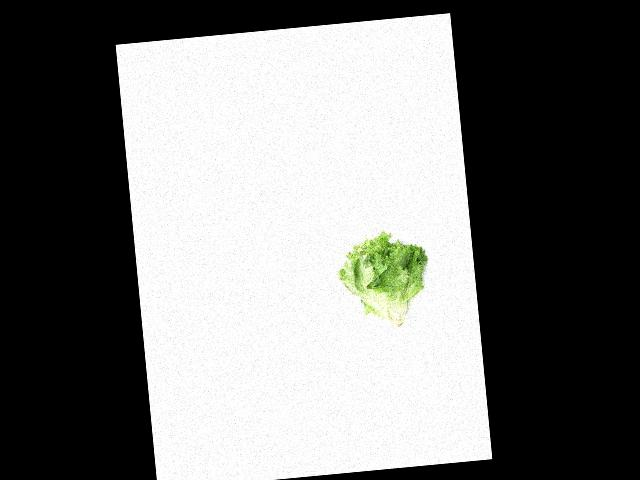lettuce: (329, 226, 431, 342)
